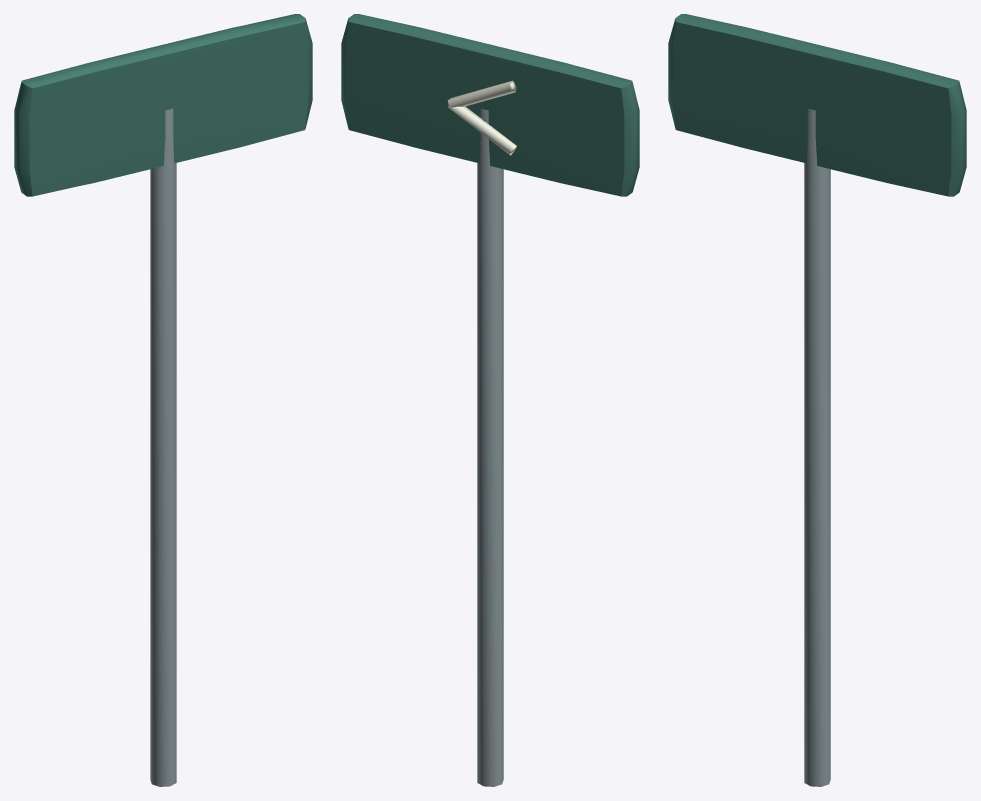
File: road_sign_direction.glb
3 views of the same model, side by side, from view 1: azimuth 30°, elevation 25°; view 2: azimuth 150°, elevation 25°; view 3: azimuth 330°, elevation 25° (orthographic).
Parts seen in each view (by area): view 1: sign_board, pole; view 2: sign_board, pole, static_road_marking; view 3: sign_board, pole.
Boxes of the visible parts, bbox=[...] form: sign_board: bbox=[14, 14, 312, 196]; pole: bbox=[150, 108, 176, 786]; sign_board: bbox=[341, 14, 639, 196]; pole: bbox=[477, 108, 503, 786]; static_road_marking: bbox=[447, 80, 516, 155]; sign_board: bbox=[668, 14, 966, 196]; pole: bbox=[804, 108, 830, 786].
Bounding box in the file's own units: 0.95 × 2.28 × 0.1011.
